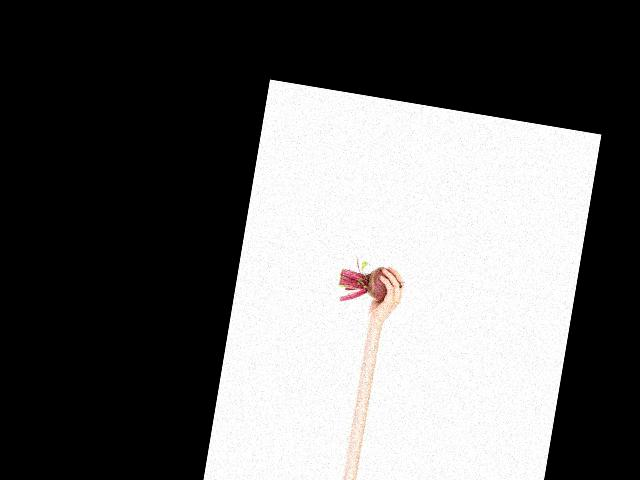beet: (336, 255, 406, 310)
